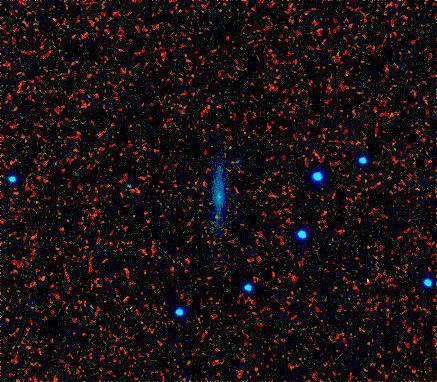star: (201, 202, 231, 232)
